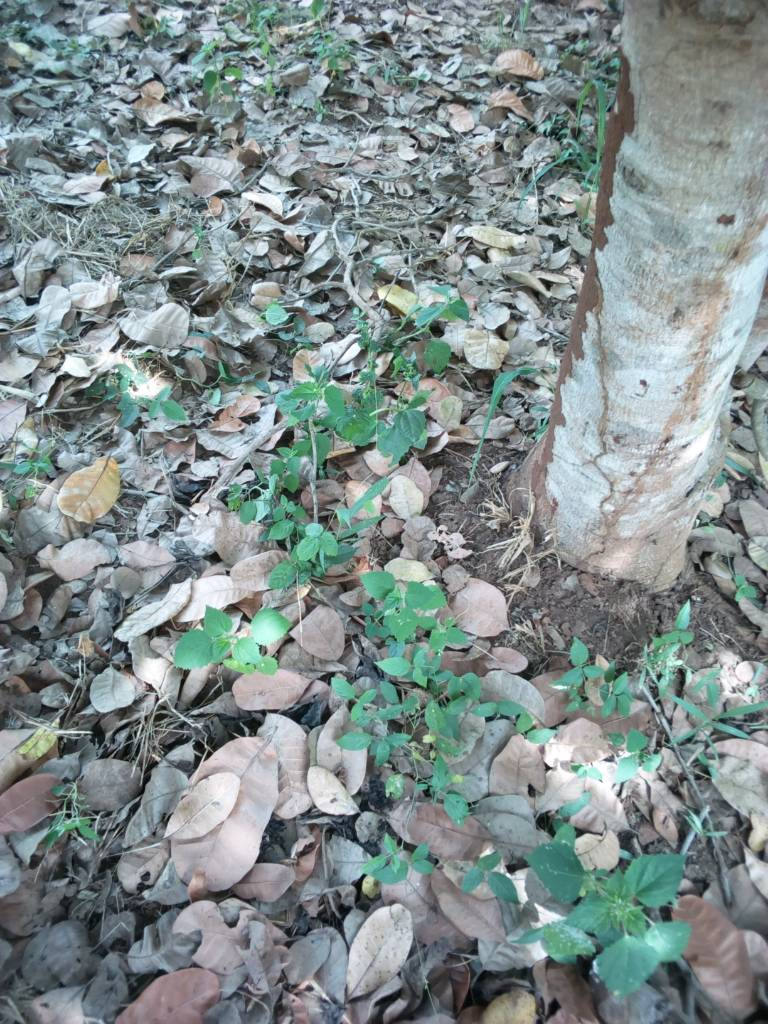Termites: (535, 67, 635, 550), (657, 227, 707, 550)
